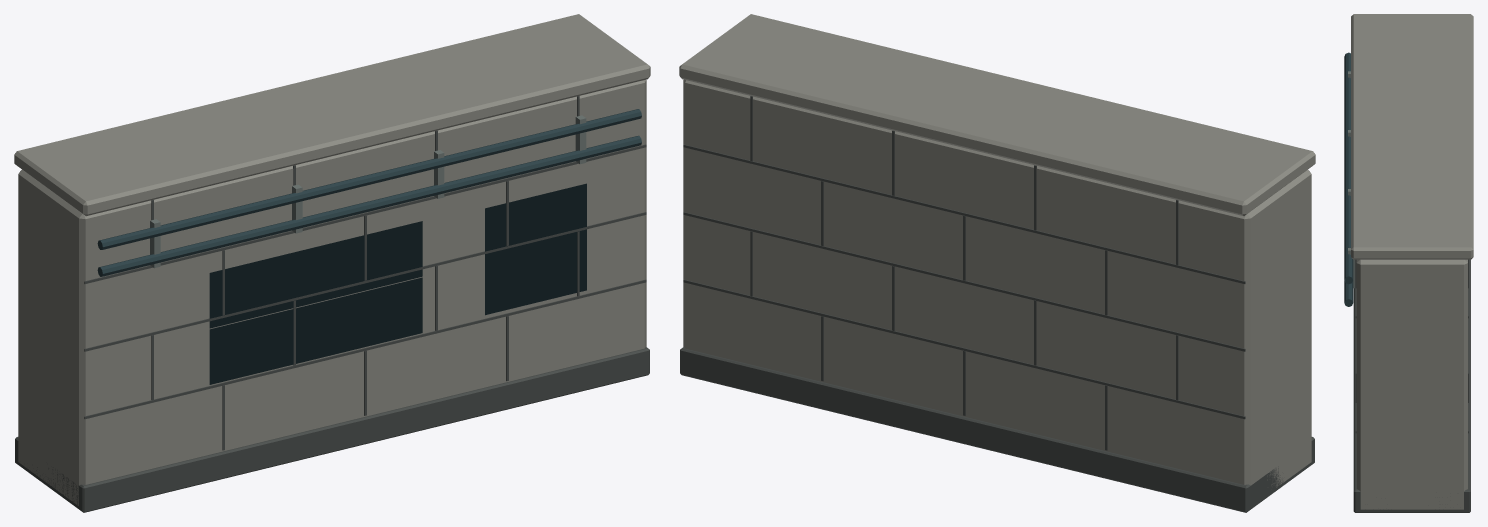
Rendered from bulkhead-wall.glb.
The picture shows the model from 3 angles, left to right: view 1: azimuth 30°, elevation 25°; view 2: azimuth 150°, elevation 25°; view 3: azimuth 270°, elevation 25°; orthographic projection. The views are drawn at different scales.
Visible parts, largest first — view 1: bulkhead-wall__bulkhead-wall__concrete, bulkhead-wall__bulkhead-wall__decal-indigo, bulkhead-wall__bulkhead-wall__concrete-dark, bulkhead-wall__bulkhead-wall__steel, bulkhead-wall__bulkhead-wall__hardware; view 2: bulkhead-wall__bulkhead-wall__concrete, bulkhead-wall__bulkhead-wall__concrete-dark; view 3: bulkhead-wall__bulkhead-wall__concrete, bulkhead-wall__bulkhead-wall__concrete-dark, bulkhead-wall__bulkhead-wall__steel.
Part boxes in pixels (box(x1,y1,x2,y2)): bulkhead-wall__bulkhead-wall__concrete: box(14, 14, 650, 505); bulkhead-wall__bulkhead-wall__decal-indigo: box(209, 183, 586, 384); bulkhead-wall__bulkhead-wall__concrete-dark: box(15, 96, 649, 512); bulkhead-wall__bulkhead-wall__steel: box(97, 109, 641, 276); bulkhead-wall__bulkhead-wall__hardware: box(150, 115, 586, 268); bulkhead-wall__bulkhead-wall__concrete: box(679, 14, 1315, 487); bulkhead-wall__bulkhead-wall__concrete-dark: box(680, 96, 1314, 512); bulkhead-wall__bulkhead-wall__concrete: box(1351, 14, 1473, 509); bulkhead-wall__bulkhead-wall__concrete-dark: box(1353, 259, 1470, 512); bulkhead-wall__bulkhead-wall__steel: box(1344, 52, 1353, 306).
Bounding box in the file's own units: 4 × 2.1 × 0.928.
